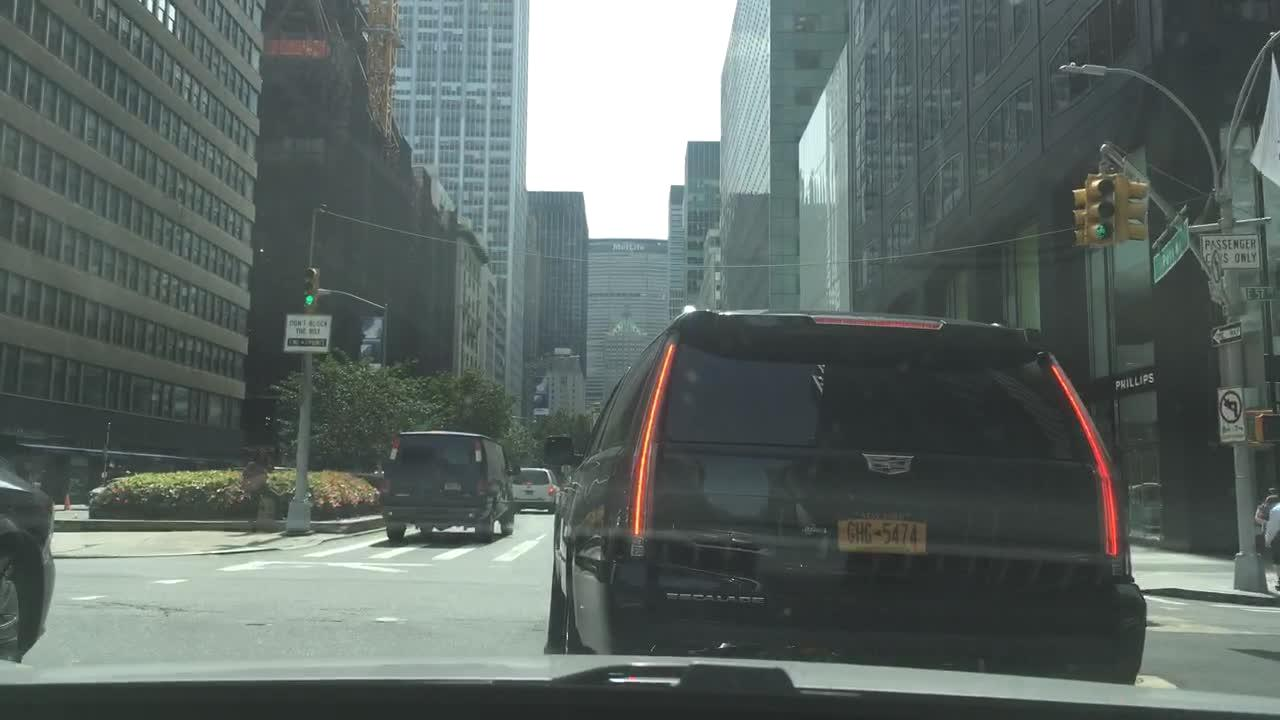cadillac: (855, 439, 920, 482)
